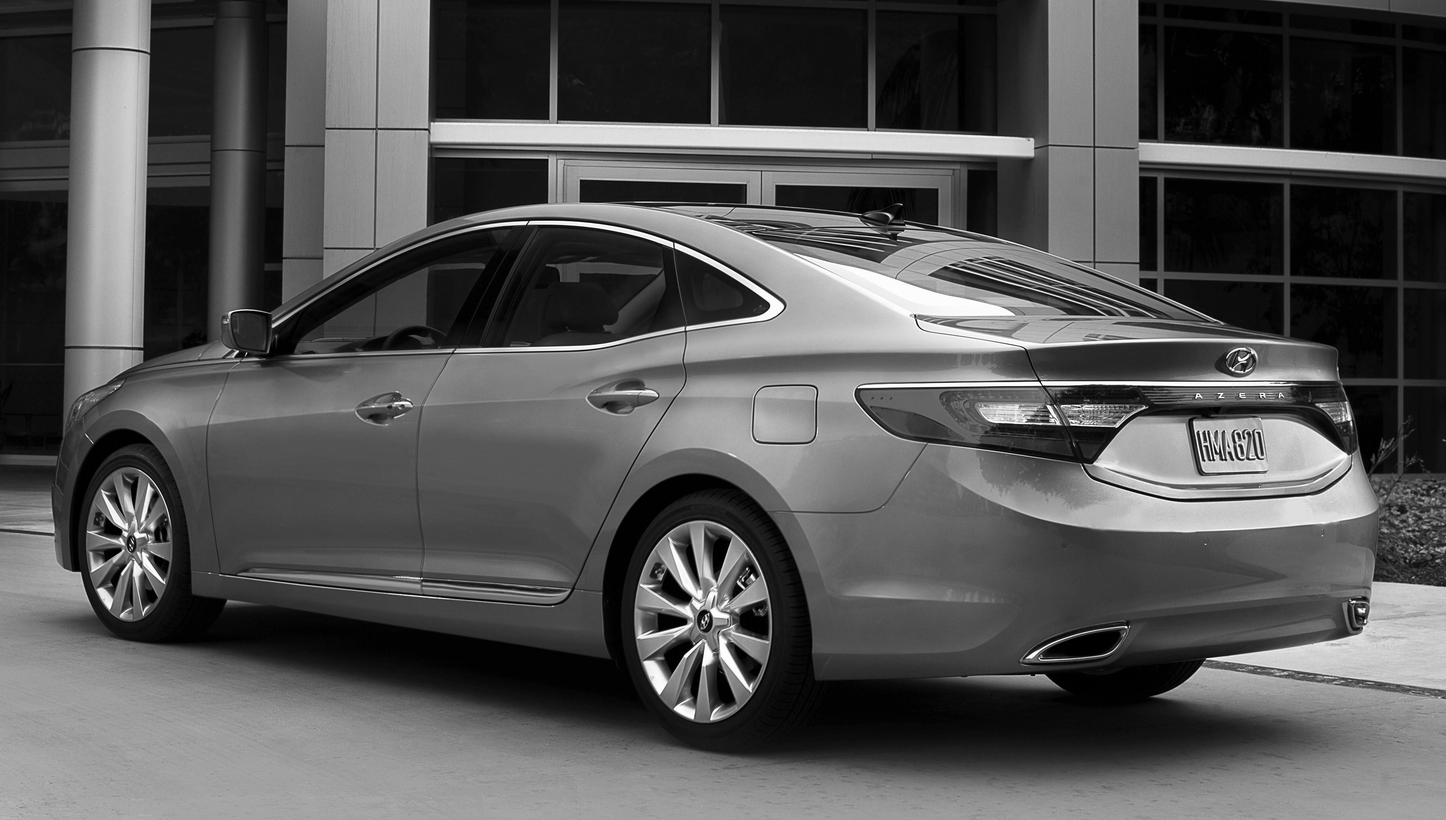car: (52, 195, 1374, 755)
